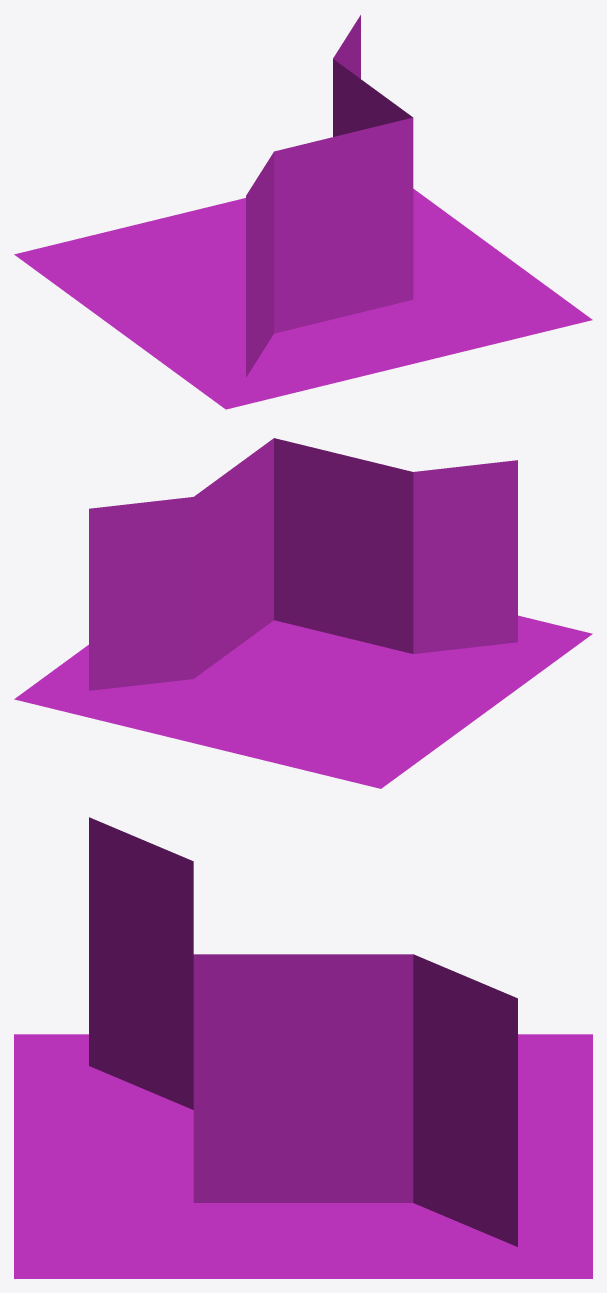
Rendered from room.fbx.
3 views of the same model, one above another, from view 1: azimuth 30°, elevation 25°; view 2: azimuth 150°, elevation 25°; view 3: azimuth 270°, elevation 25° (orthographic). The views are drawn at different scales.
Parts seen in each view (by area): view 1: Mesh; view 2: Mesh; view 3: Mesh.
Boxes of the visible parts, x1,y1,x2,y2 form: Mesh: (14,15,592,409); Mesh: (14,438,592,788); Mesh: (14,817,592,1278).
Size of the model in its own units: 606 by 288 by 606.
